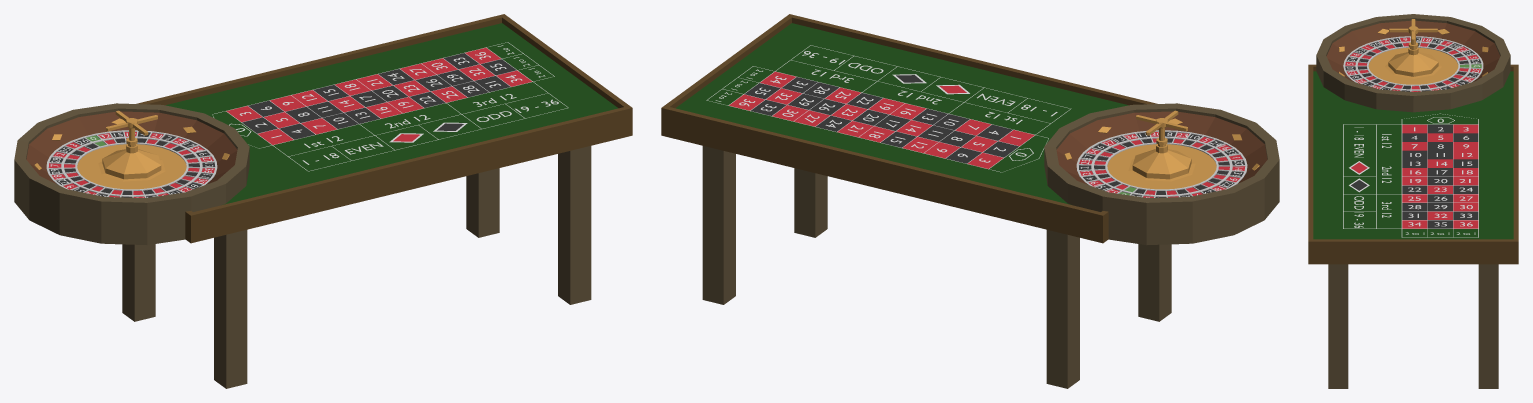
The model's file is Roulette Table.fbx.
3 renders of one model, left to right at view 1: azimuth 30°, elevation 25°; view 2: azimuth 150°, elevation 25°; view 3: azimuth 270°, elevation 25°, orthographic. The views are drawn at different scales.
Parts seen in each view (by area): view 1: Roulette Table, Roulette Table Spinner; view 2: Roulette Table, Roulette Table Spinner; view 3: Roulette Table, Roulette Table Spinner.
Part boxes in pixels (bbox=[...]): Roulette Table: bbox=[14, 14, 632, 388]; Roulette Table Spinner: bbox=[46, 110, 217, 197]; Roulette Table: bbox=[661, 14, 1279, 388]; Roulette Table Spinner: bbox=[1076, 110, 1247, 197]; Roulette Table: bbox=[1308, 14, 1518, 388]; Roulette Table Spinner: bbox=[1343, 19, 1483, 91].
Bounding box in the file's own units: 2037 × 870 × 840.
